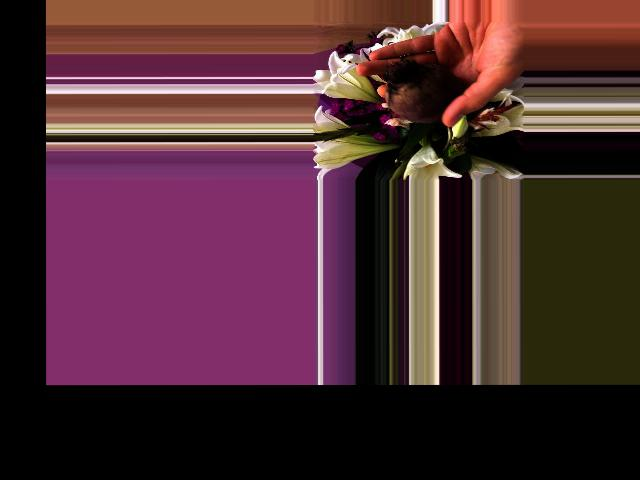beet: (382, 61, 461, 152)
